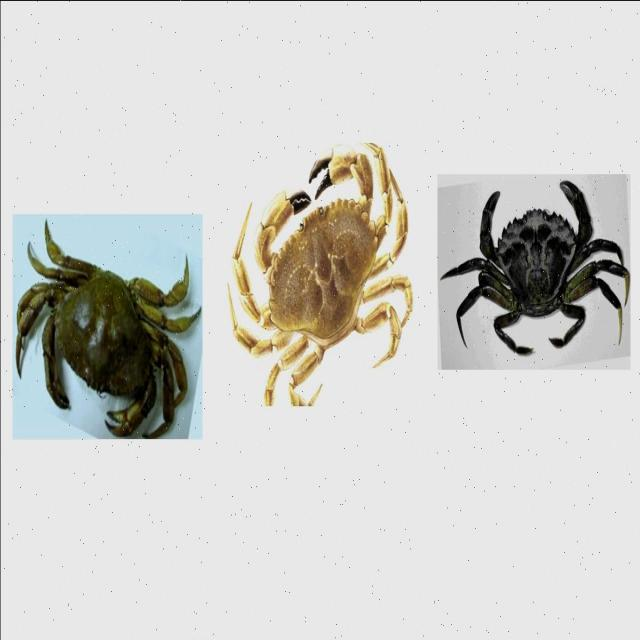egc: (439, 180, 630, 356)
